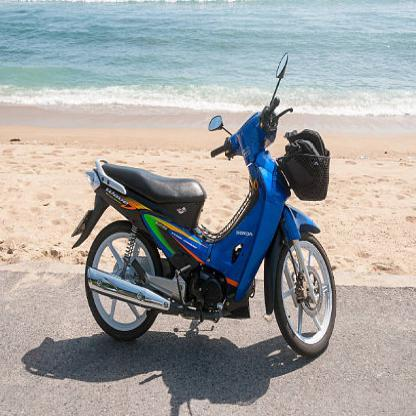Motorcycle: (69, 44, 344, 363)
